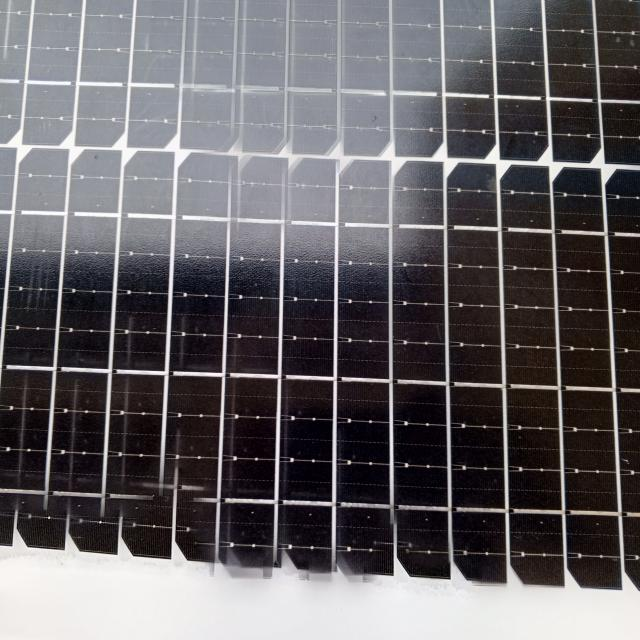Clean: (1, 0, 640, 597)
